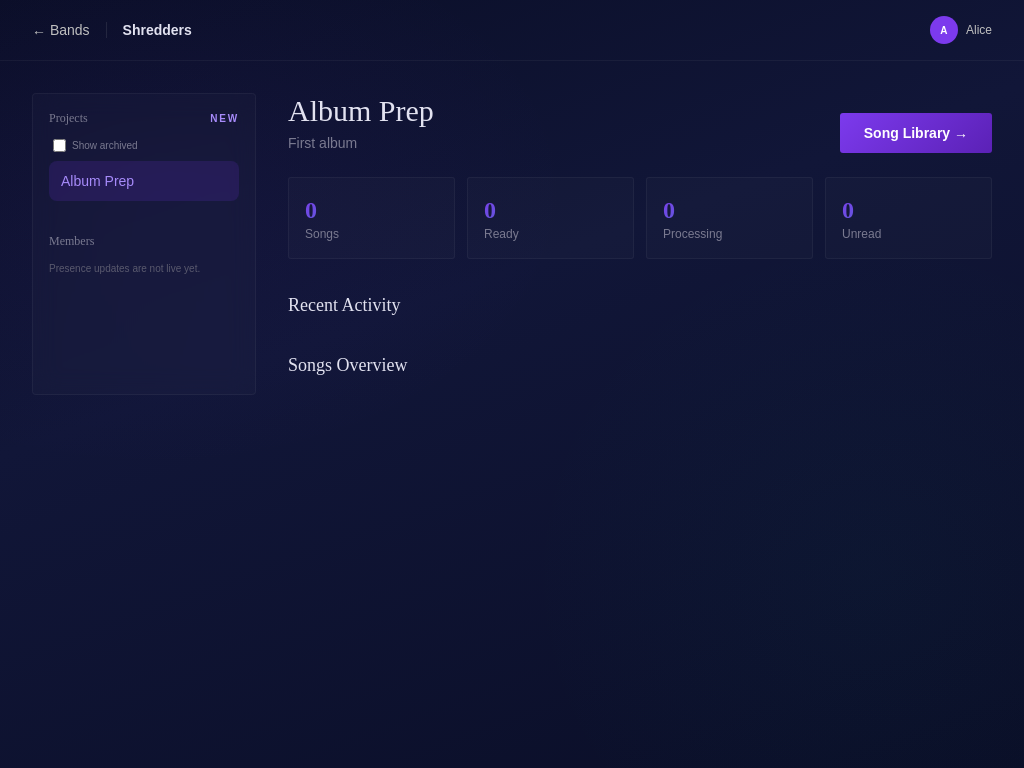
ProjectHomePage — project creation modal › clicking New renders the modal
Step 1. Click the button with aria-label "create new project" → {"x": 225, "y": 118}, box [210,110,239,126]
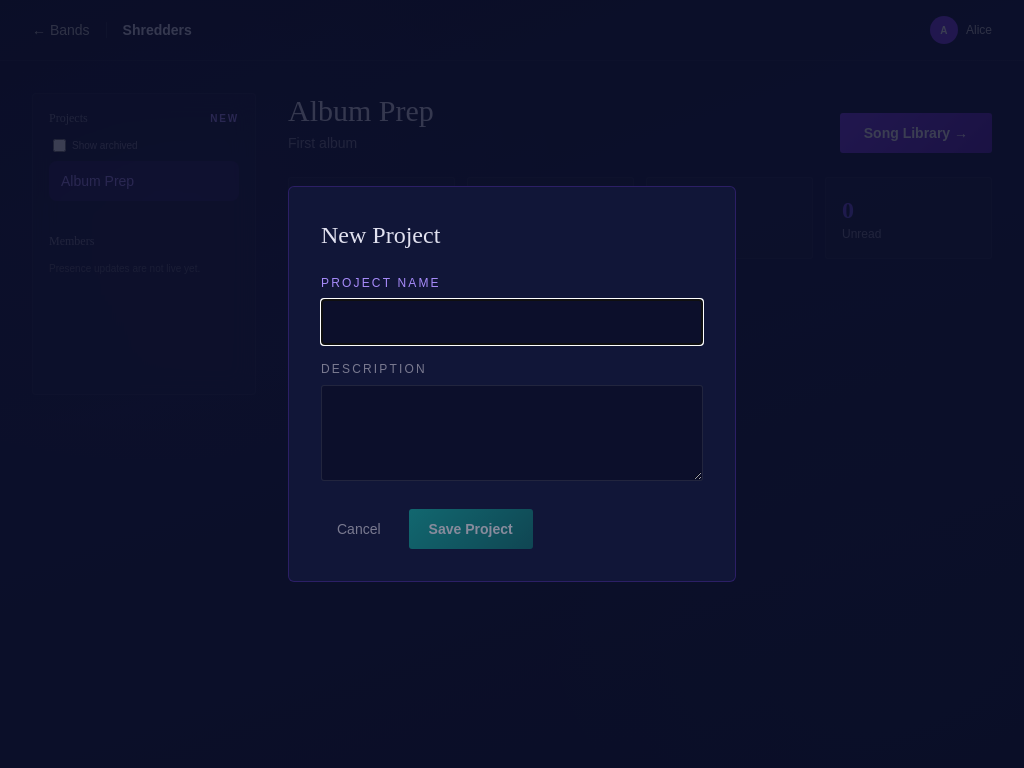
Check: the dialog is shown
Check: the field labelled "Project Name" is shown, box [321,299,703,345]
